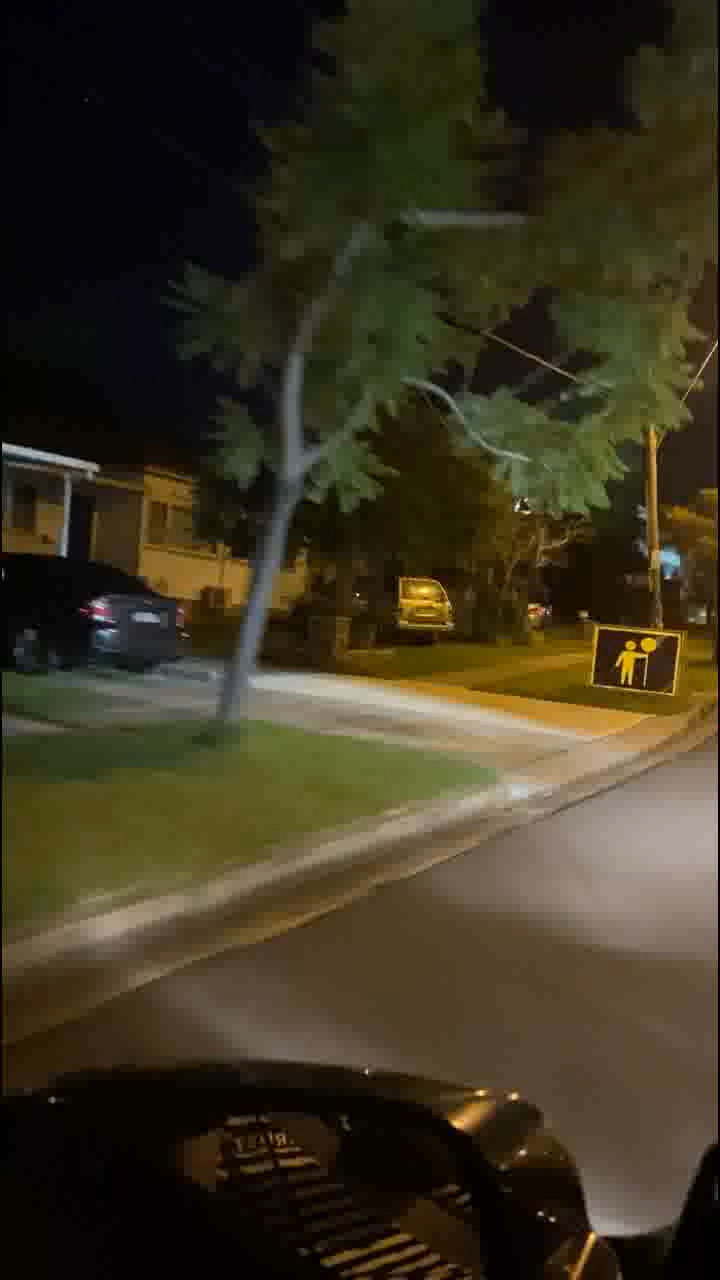prepare to stop board: (590, 623, 679, 688)
